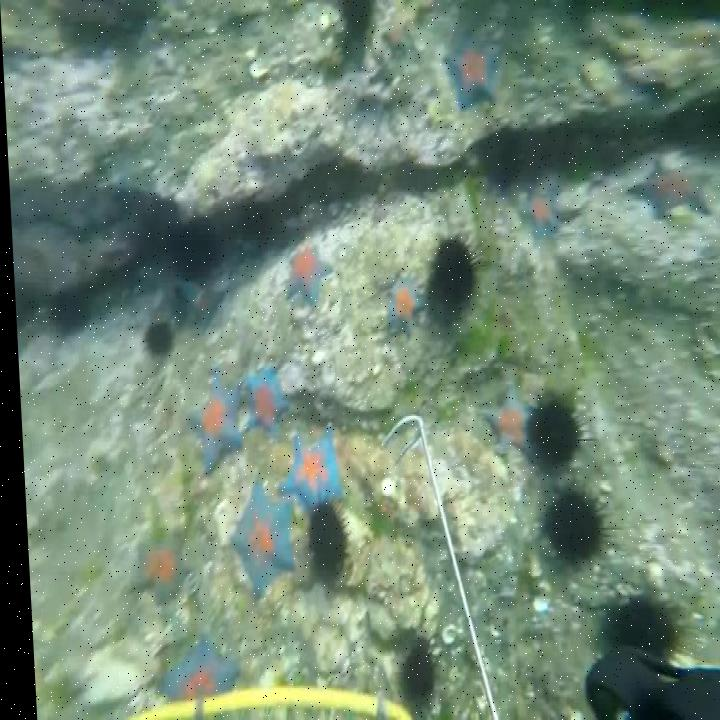echinus: (592, 587, 676, 665), (535, 489, 601, 565), (522, 394, 578, 474), (426, 233, 483, 311), (302, 503, 344, 574), (167, 226, 213, 288), (393, 633, 428, 709), (55, 288, 92, 338), (140, 324, 172, 354)
scallop: (433, 622, 450, 647)
starfish: (222, 485, 291, 599), (151, 634, 232, 720), (179, 363, 237, 469), (622, 158, 706, 222), (120, 516, 179, 606), (442, 34, 503, 112), (283, 425, 333, 515), (482, 382, 529, 459), (377, 276, 426, 336), (241, 370, 281, 436), (514, 176, 552, 242), (280, 242, 325, 297)
